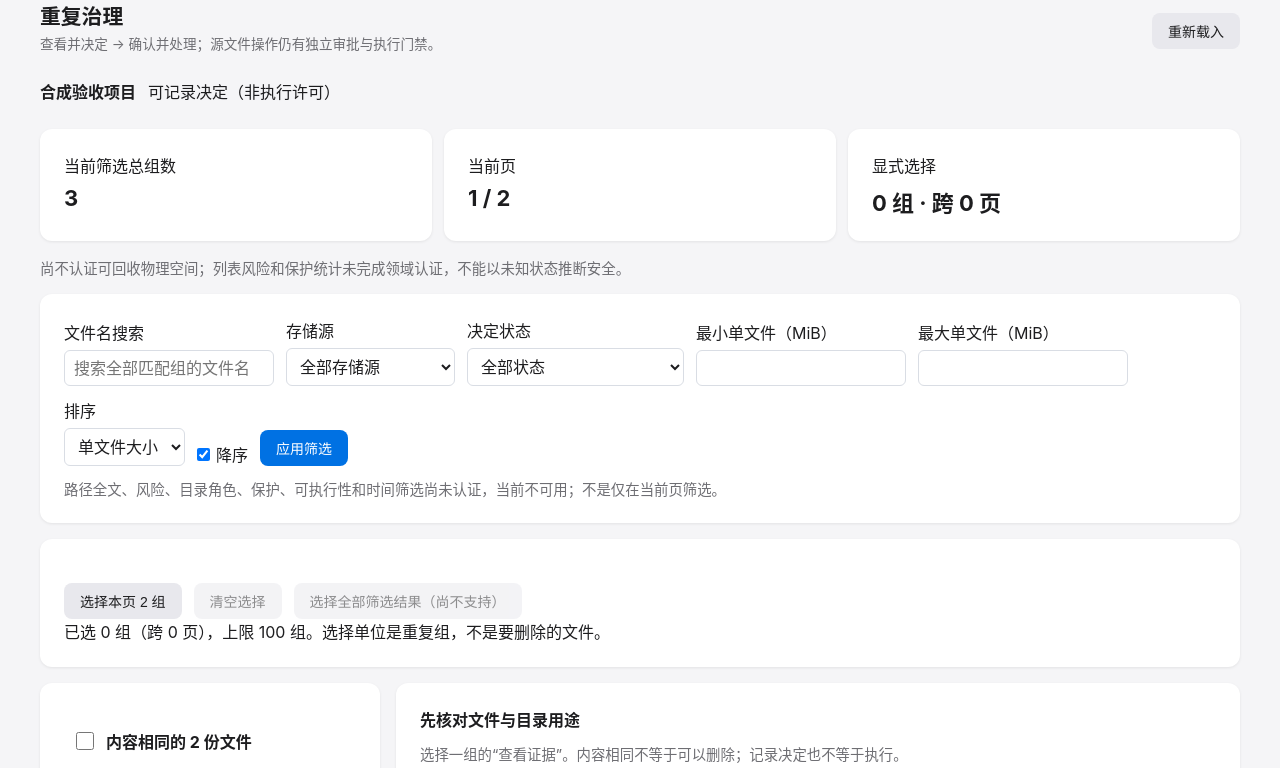
Test: governance workbench selection and records-only flow › retries an ambiguous transport with exactly the same token and idempotency key
This screenshot has width=1280, height=768.
Click the checkbox named "选择本页第 1 组". click: [85, 741]
box: x1=76 y1=732 x2=94 y2=750
(page scrolled)
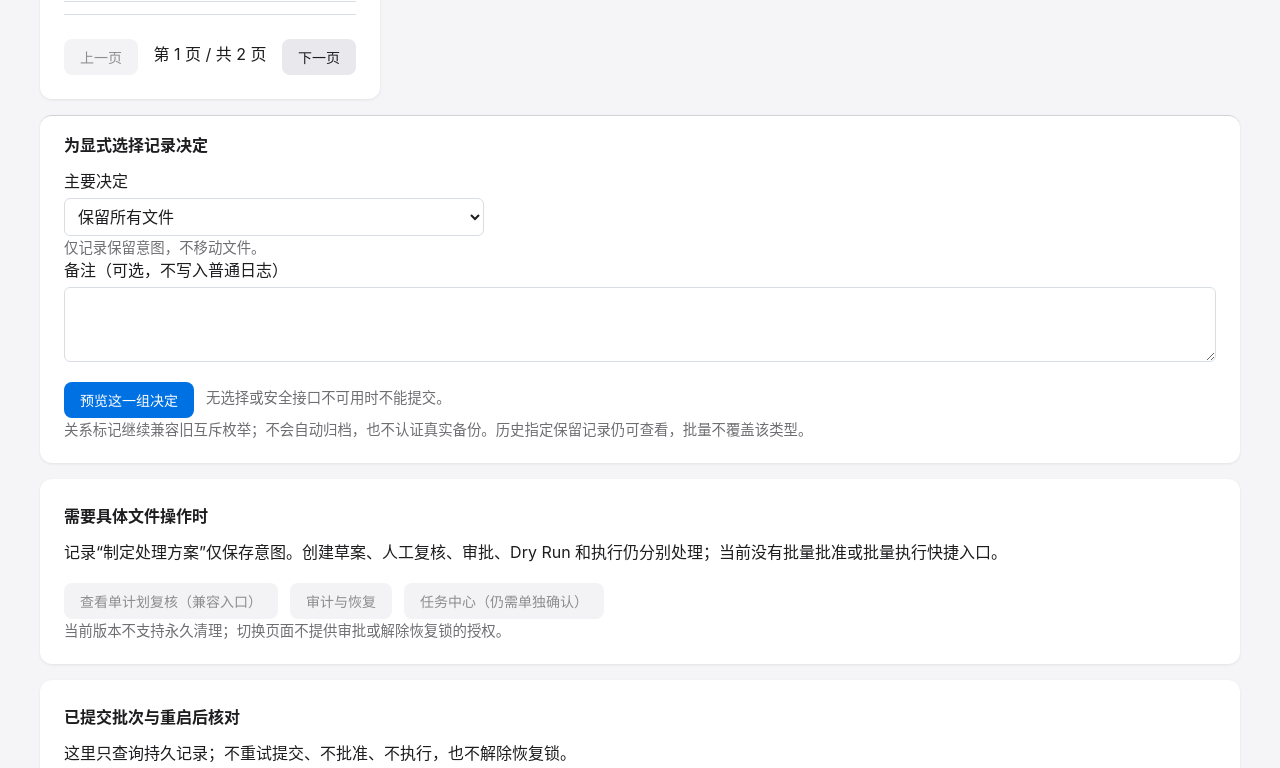
Click the button "预览这一组决定". click: [129, 400]
box: x1=64 y1=382 x2=194 y2=418
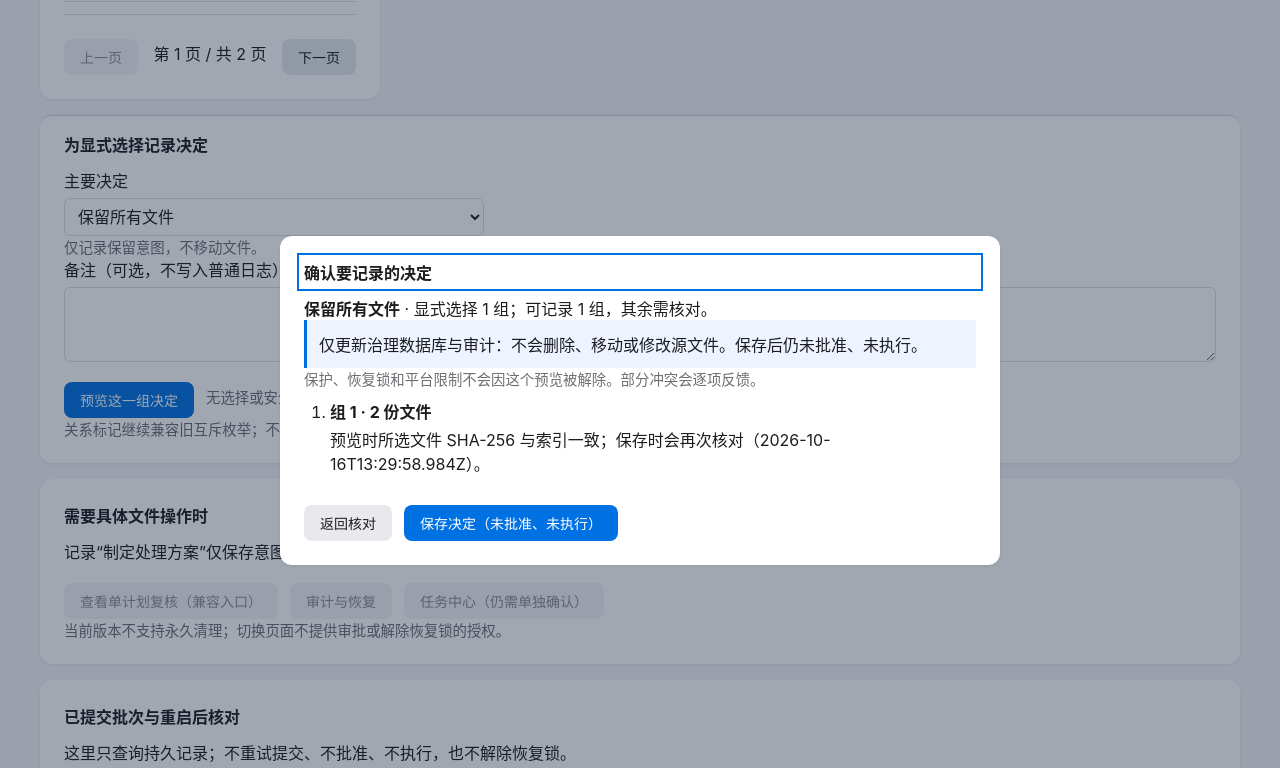
Check: the dialog is shown, box x1=280 y1=236 x2=1000 y2=564
Click the button "保存决定（未批准、未执行）". click: [511, 522]
box: x1=404 y1=504 x2=618 y2=540
(page scrolled)
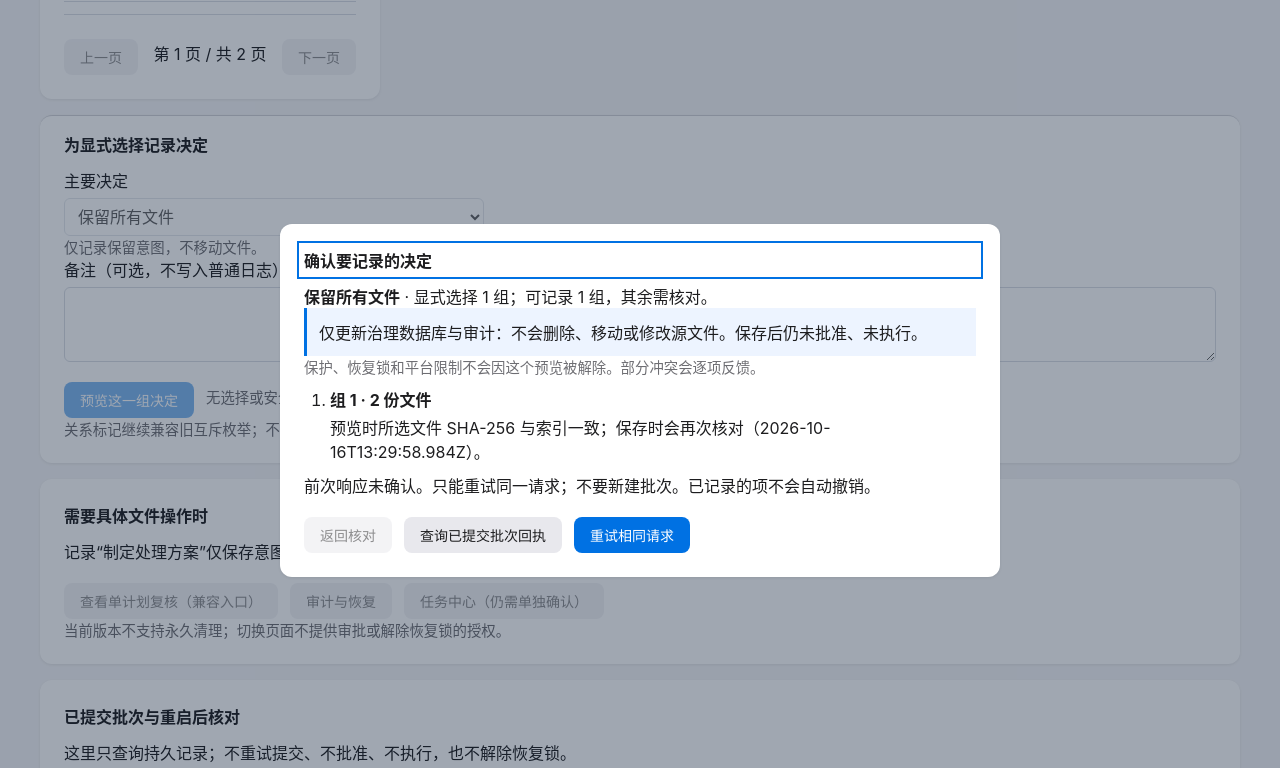
Click the button "重试相同请求". click: [632, 534]
box: x1=574 y1=516 x2=690 y2=552
(page scrolled)
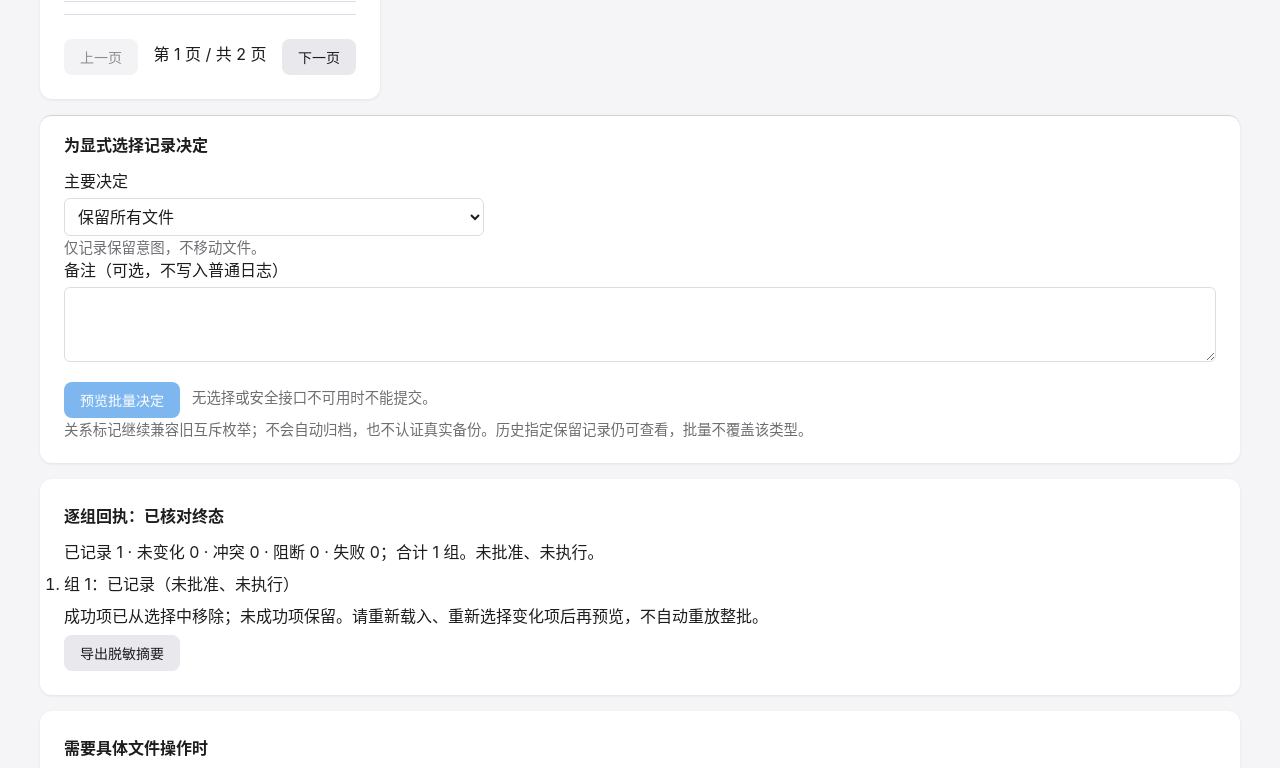
Check: the element named "批次回执" is shown, box x1=40 y1=479 x2=1240 y2=695
